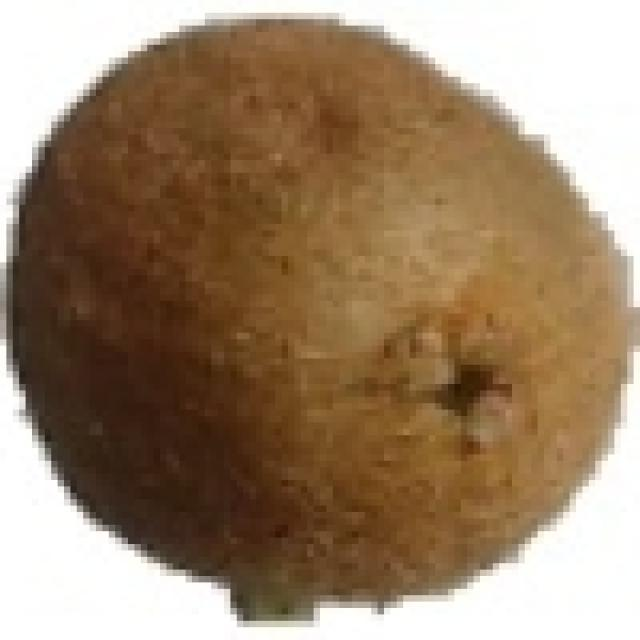kiwi: (26, 13, 634, 608)
